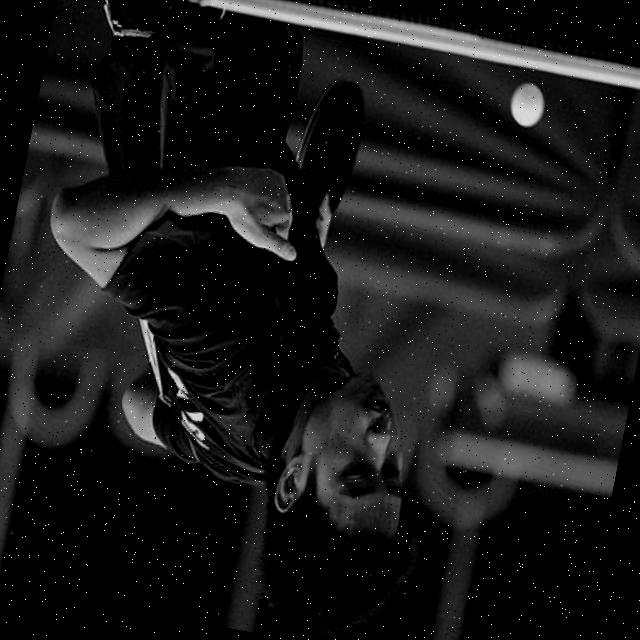ping-pong-ball: (504, 78, 548, 129)
